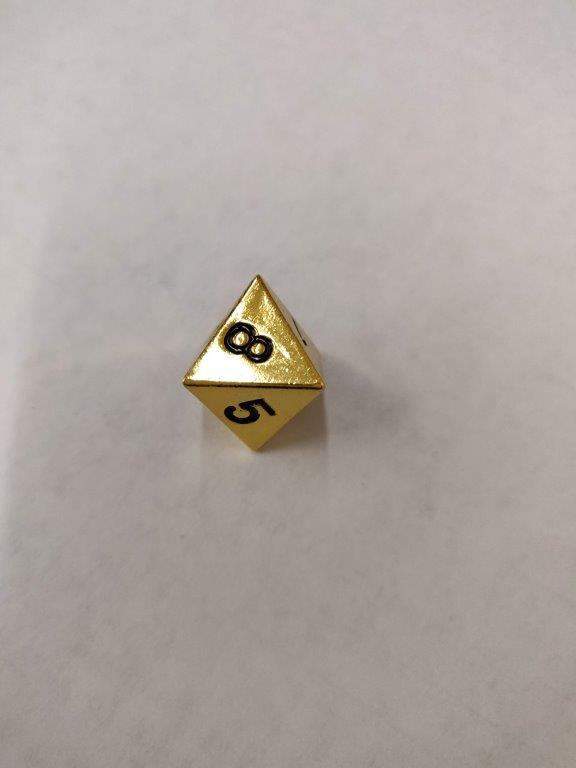d8-8: (183, 275, 324, 455)
